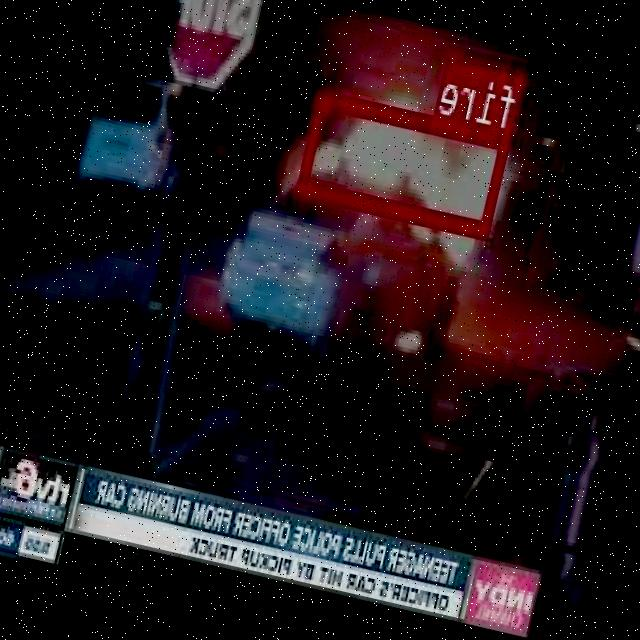fire: (298, 87, 513, 234)
